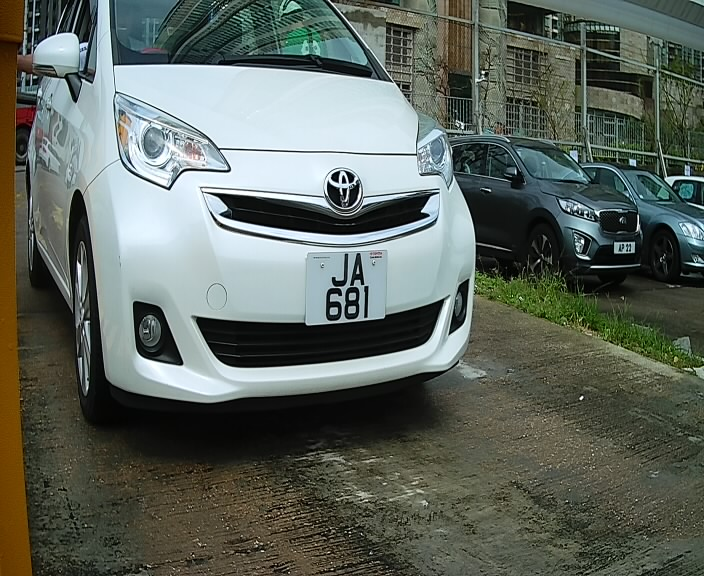Car: (27, 2, 487, 440)
License Plate: (306, 242, 389, 332)
